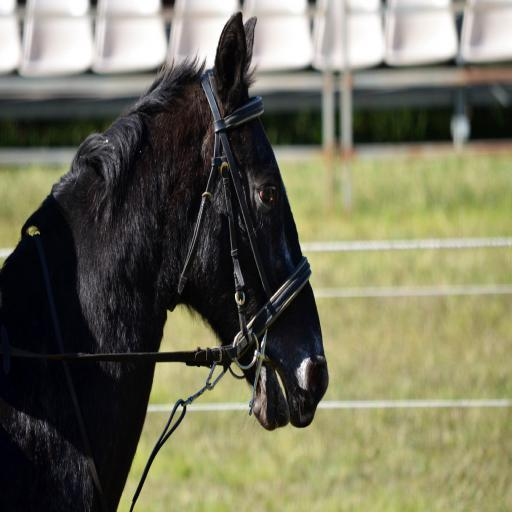horse: (0, 8, 329, 512)
